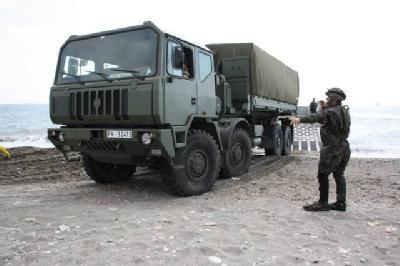ambulance: (47, 23, 297, 192)
